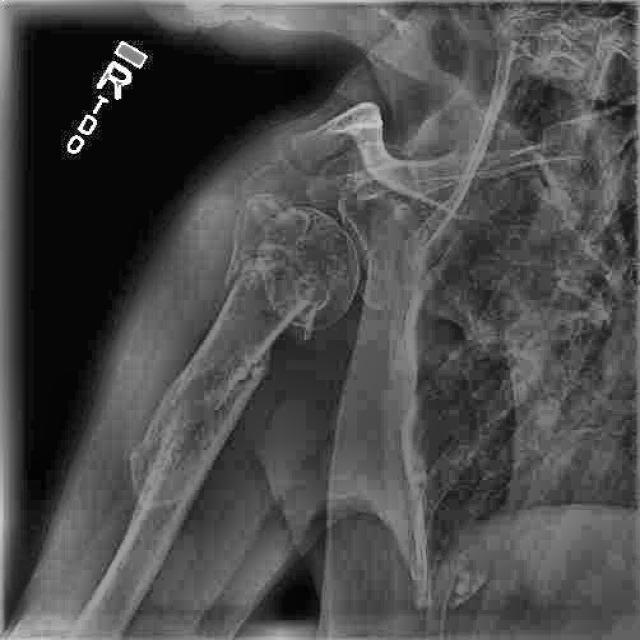shoulder fracture: (93, 298, 324, 544)
